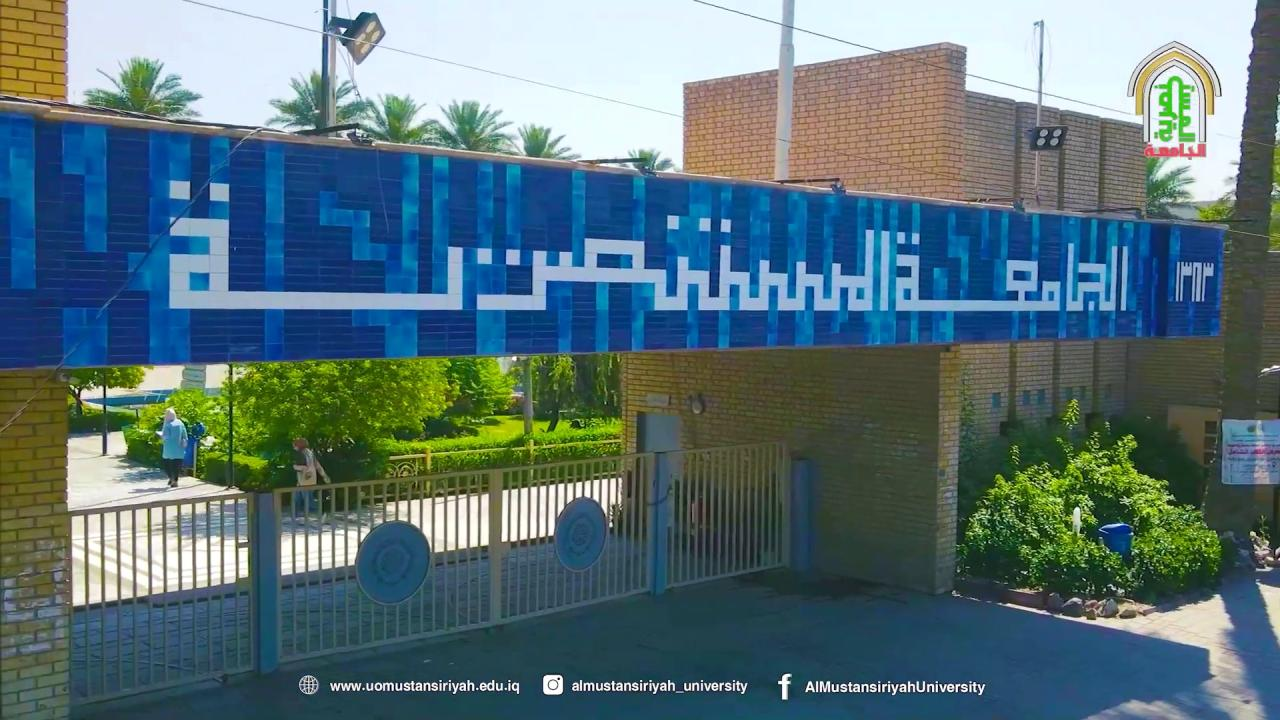person: (291, 436, 330, 524), (155, 406, 188, 487)
tree: (70, 57, 666, 492), (955, 421, 1222, 632), (72, 55, 202, 455), (217, 356, 458, 501), (125, 387, 220, 473), (82, 54, 203, 120), (265, 68, 370, 134), (69, 364, 146, 454), (424, 98, 515, 153), (340, 92, 433, 144), (533, 354, 578, 432), (1144, 154, 1195, 218), (470, 356, 515, 418), (515, 122, 574, 159), (593, 352, 621, 418), (66, 368, 99, 416), (626, 147, 674, 174)
